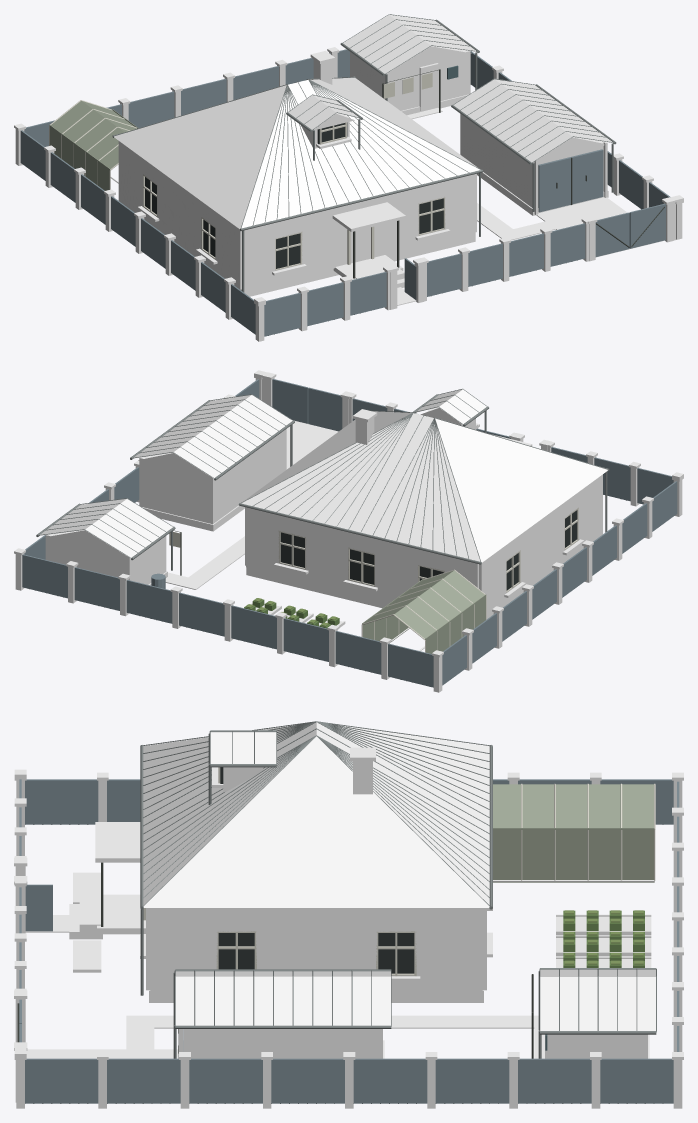
3 renders of one model, top to bottom at view 1: azimuth 30°, elevation 25°; view 2: azimuth 150°, elevation 25°; view 3: azimuth 270°, elevation 25°, orthographic. The views are drawn at different scales.
Visible parts, largest first — view 1: ParcelGeometry.022, SummerPlanting.020; view 2: ParcelGeometry.022, SummerPlanting.020; view 3: ParcelGeometry.022, SummerPlanting.020.
Part boxes in pixels (x1,y1,x2,y2): ParcelGeometry.022: [14, 14, 683, 341]; SummerPlanting.020: [383, 72, 432, 98]; ParcelGeometry.022: [14, 370, 683, 692]; SummerPlanting.020: [169, 531, 339, 628]; ParcelGeometry.022: [14, 721, 683, 1108]; SummerPlanting.020: [563, 910, 644, 967].
Bounding box in the file's own units: 20.23 × 6.66 × 20.15.
